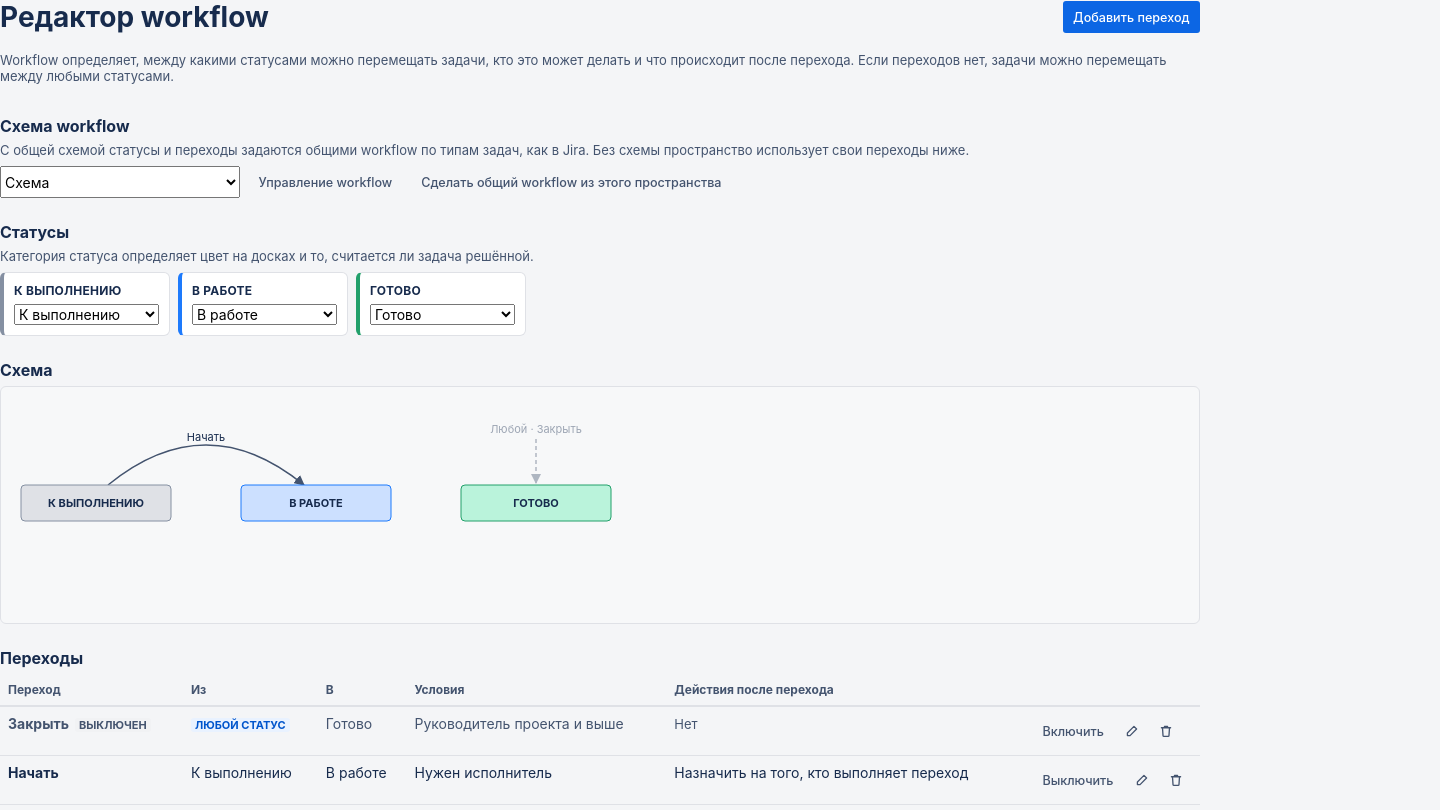
Test case: space switches to a shared workflow scheme, migrating issues whose status is missing
Select "Схема" in the dropdown named "Схема workflow" at (120, 182), box [0,166,240,198]
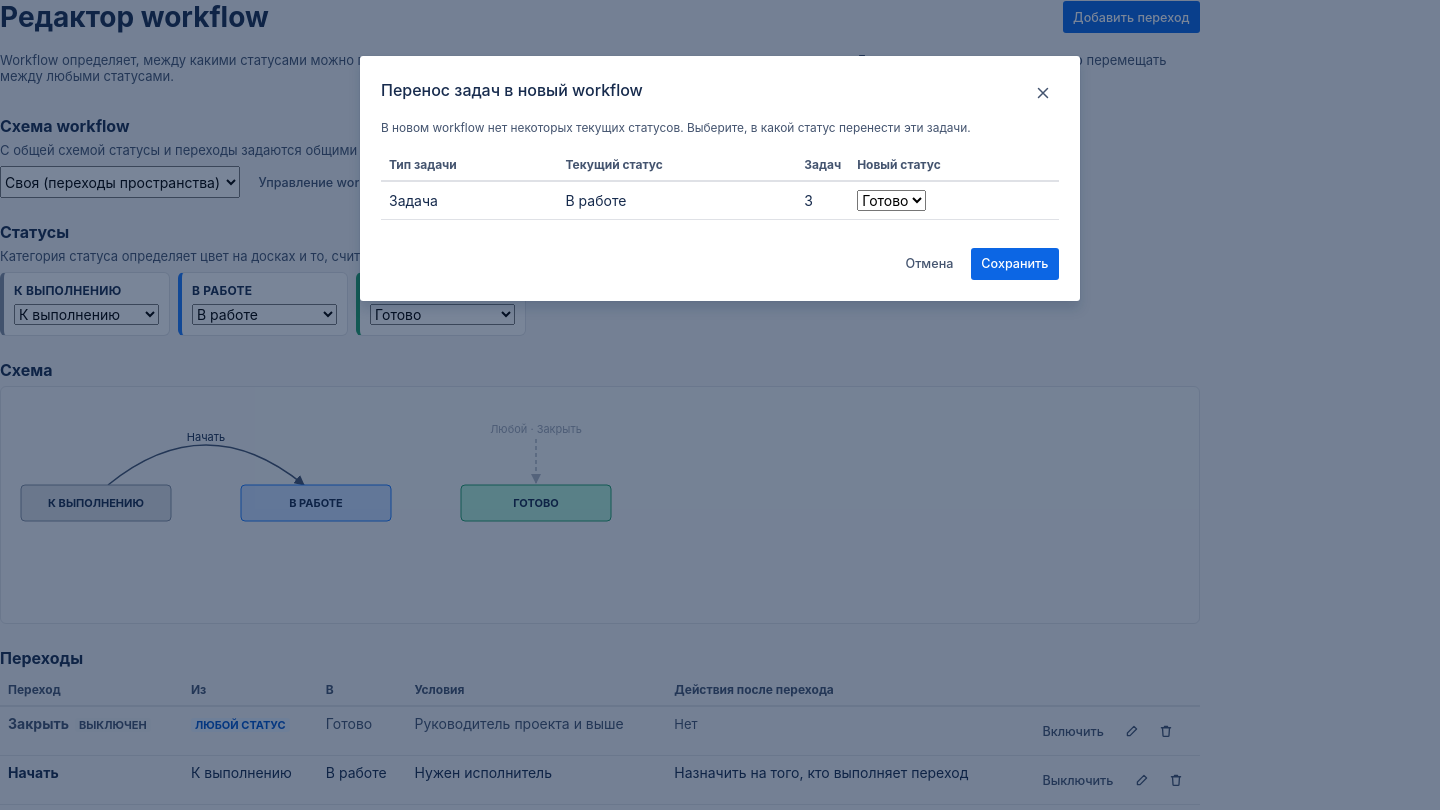
Now the dialog named "Перенос задач в новый workflow" shows "Задача", box [389,192,438,208]
Select "Готово" in the dropdown named "Новый статус: В работе" at (892, 200), box [857,190,926,210]
Submit the dialog named "Перенос задач в новый workflow", box [360,56,1080,300]
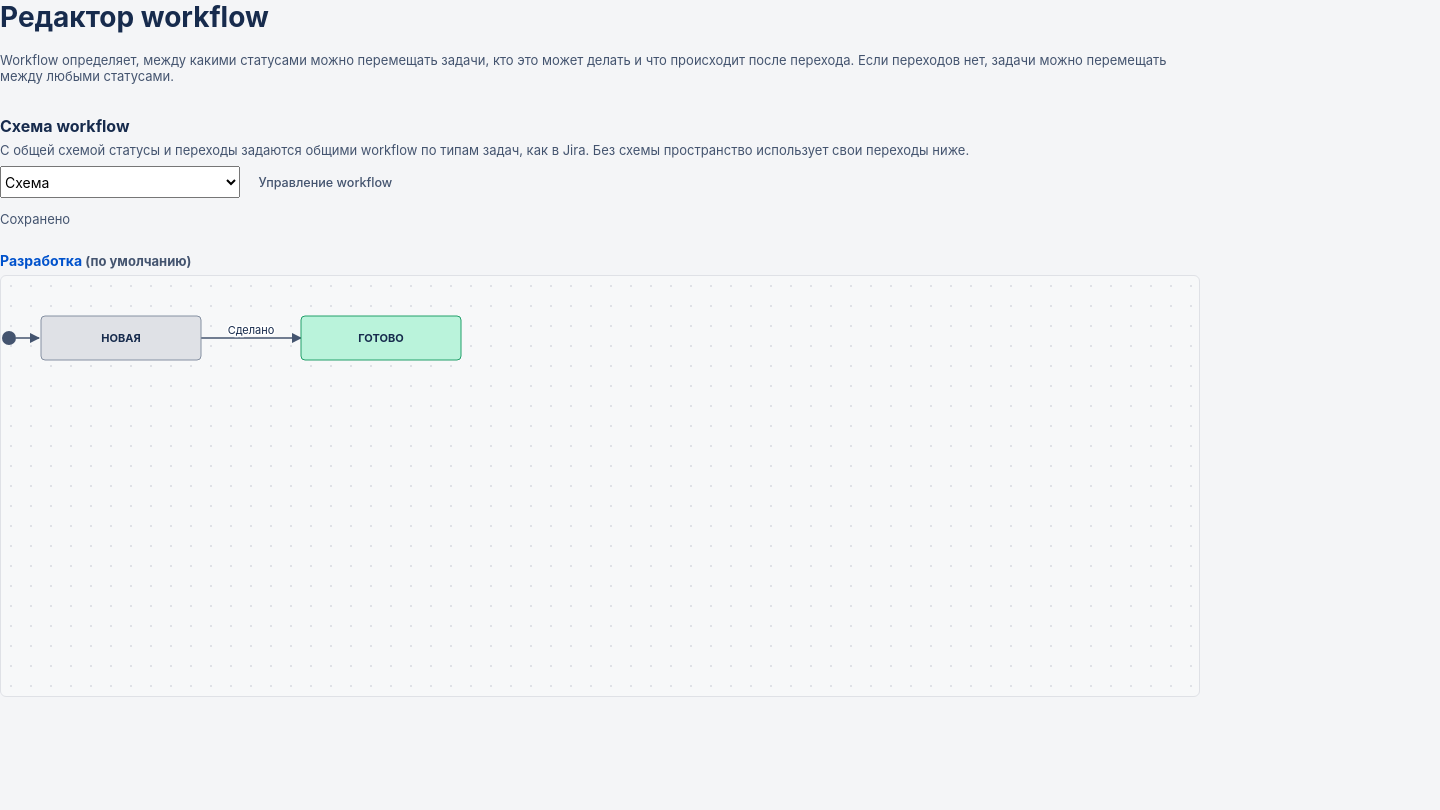
Expected: the element named "Статус Новая" is shown, [101,331,141,345]
Now the label with class "wf-status-card" is gone
Now the text "Разработка" is shown, box [0,252,82,269]
